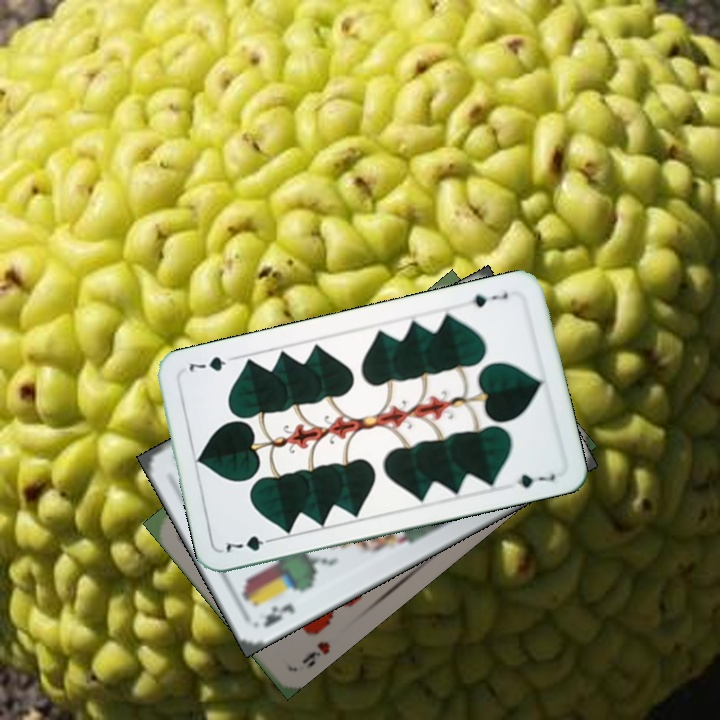EK: (260, 599, 298, 630)
G7: (221, 532, 279, 556), (468, 288, 511, 310)
H9: (297, 637, 333, 672)
